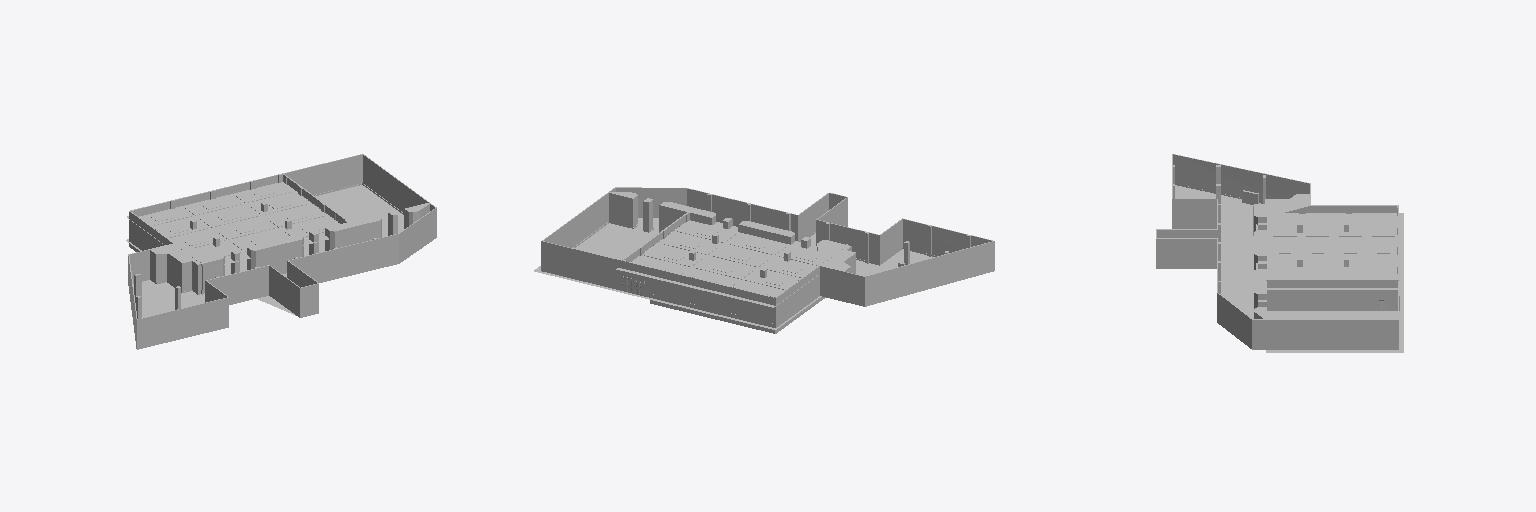
The model's file is hotel+conference+hall-2.obj.
3 renders of one model, left to right at view 1: azimuth 30°, elevation 25°; view 2: azimuth 150°, elevation 25°; view 3: azimuth 270°, elevation 25°, orthographic.
Visible parts, largest first — view 1: Salon Null1 Boole Polygon3, arka_duvar, Tavan tavan, Salon Null1 Polygon6, Salon Null1 Polygon, Salon Null1 Polygon4, Tavan tavan avizeler Group011_4 avize_Giz9 Box0752, Tavan tavan avizeler Group011_5 avize_Giz7 Box0754, Tavan tavan avizeler Group011_8 avize_Giz1 Box07510, Tavan tavan avizeler Group011_6 avize_Giz5 Box0756; view 2: Salon Null1 Boole Polygon3, Tavan tavan, arka_duvar, Salon Null1 Polygon6, Salon Null1 Polygon4, Salon duvar_grubu Cube_10, Salon Null1 Polygon, Salon Null1 Polygon1, Tavan tavan avizeler Group011_5 avize_Giz7 Box0754, Tavan tavan avizeler Group011_7 avize_Giz Box0758, Tavan tavan avizeler Group011_6 avize_Giz5 Box0756, Tavan tavan avizeler Group011_10 avize_Giz3 Box0759 (+1 smaller); view 3: Salon Null1 Boole Polygon3, Salon Null1 Polygon, Salon Null1 Boole_1 Polygon2, Tavan tavan, Salon Null1 Polygon6, arka_duvar, Salon Null1 Polygon4, Tavan tavan avizeler Group011_7 avize_Giz Box0758, Tavan tavan avizeler Group011_3 avize_Giz8 Box0751, Tavan tavan avizeler Group011_0 avize_Giz6 Box0753, Tavan tavan avizeler Group011_2 avize_Giz10 Box0755, Tavan tavan avizeler Group011_4 avize_Giz9 Box0752 (+1 smaller).
Boxes of the visible parts, <box> form: Salon Null1 Boole Polygon3: <box>128,154,436,349</box>; arka_duvar: <box>134,211,397,318</box>; Tavan tavan: <box>127,182,339,264</box>; Salon Null1 Polygon6: <box>126,185,403,275</box>; Salon Null1 Polygon: <box>133,273,295,317</box>; Salon Null1 Polygon4: <box>150,202,429,264</box>; Tavan tavan avizeler Group011_4 avize_Giz9 Box0752: <box>184,195,241,215</box>; Tavan tavan avizeler Group011_5 avize_Giz7 Box0754: <box>200,208,257,227</box>; Tavan tavan avizeler Group011_8 avize_Giz1 Box07510: <box>234,183,292,202</box>; Tavan tavan avizeler Group011_6 avize_Giz5 Box0756: <box>217,220,274,239</box>; Salon Null1 Boole Polygon3: <box>541,187,994,327</box>; Tavan tavan: <box>616,220,817,307</box>; arka_duvar: <box>643,198,948,266</box>; Salon Null1 Polygon6: <box>534,223,821,329</box>; Salon Null1 Polygon4: <box>608,192,855,301</box>; Salon duvar_grubu Cube_10: <box>650,294,775,333</box>; Salon Null1 Polygon: <box>634,218,932,275</box>; Salon Null1 Polygon1: <box>707,194,970,263</box>; Tavan tavan avizeler Group011_5 avize_Giz7 Box0754: <box>695,259,752,279</box>; Tavan tavan avizeler Group011_7 avize_Giz Box0758: <box>728,235,785,254</box>; Tavan tavan avizeler Group011_6 avize_Giz5 Box0756: <box>711,247,768,266</box>; Tavan tavan avizeler Group011_10 avize_Giz3 Box0759: <box>661,235,718,254</box>; Salon Null1 Boole Polygon3: <box>1156,154,1398,349</box>; Salon Null1 Polygon: <box>1175,185,1260,318</box>; Salon Null1 Boole_1 Polygon2: <box>1267,281,1397,310</box>; Tavan tavan: <box>1256,213,1403,289</box>; Salon Null1 Polygon6: <box>1266,290,1403,352</box>; arka_duvar: <box>1216,165,1266,308</box>; Salon Null1 Polygon4: <box>1254,194,1310,319</box>; Tavan tavan avizeler Group011_7 avize_Giz Box0758: <box>1273,238,1296,260</box>; Tavan tavan avizeler Group011_3 avize_Giz8 Box0751: <box>1273,214,1296,236</box>; Tavan tavan avizeler Group011_0 avize_Giz6 Box0753: <box>1372,214,1394,236</box>; Tavan tavan avizeler Group011_2 avize_Giz10 Box0755: <box>1306,214,1328,236</box>; Tavan tavan avizeler Group011_4 avize_Giz9 Box0752: <box>1372,238,1394,260</box>.
Bounding box in the file's own units: 7776 × 773 × 4834.